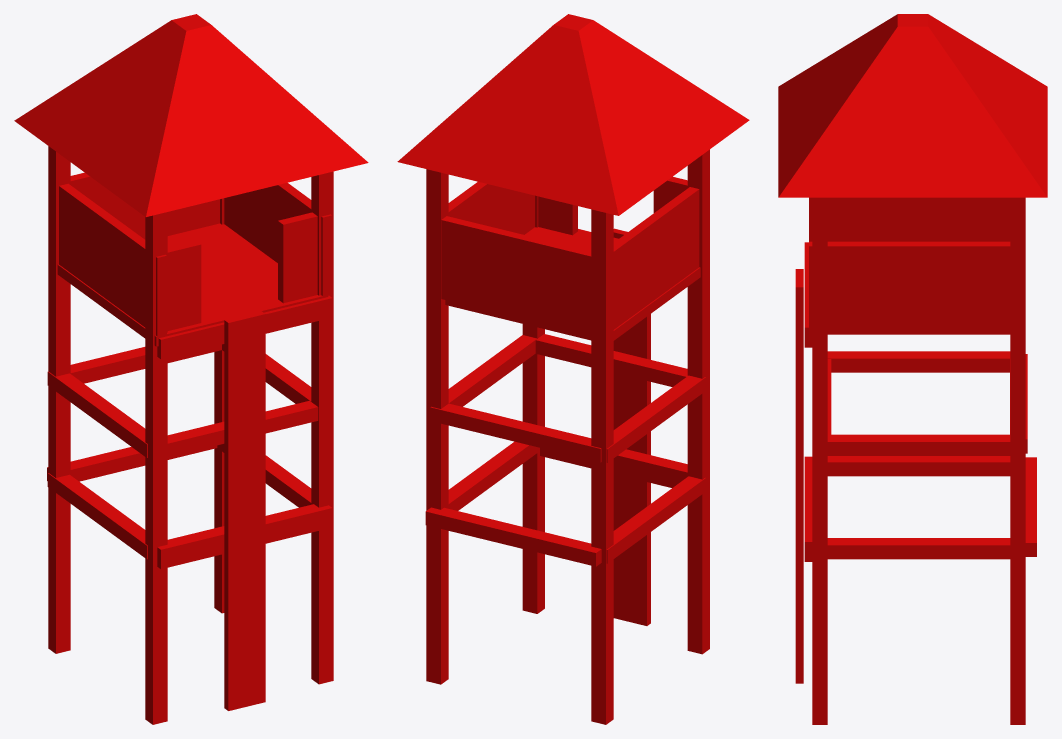
File: SM_Bld_Fort_Tower_01_Collision.fbx
3 views of the same model, side by side, from view 1: azimuth 30°, elevation 25°; view 2: azimuth 150°, elevation 25°; view 3: azimuth 270°, elevation 25° (orthographic). The views are drawn at different scales.
Parts seen in each view (by area): view 1: SM_Bld_Fort_Tower_01_Collision; view 2: SM_Bld_Fort_Tower_01_Collision; view 3: SM_Bld_Fort_Tower_01_Collision.
Part boxes in pixels (bbox=[...]): SM_Bld_Fort_Tower_01_Collision: bbox=[14, 14, 368, 724]; SM_Bld_Fort_Tower_01_Collision: bbox=[397, 14, 749, 724]; SM_Bld_Fort_Tower_01_Collision: bbox=[778, 14, 1047, 724].
Bounding box in the file's own units: 328 × 905 × 335.
